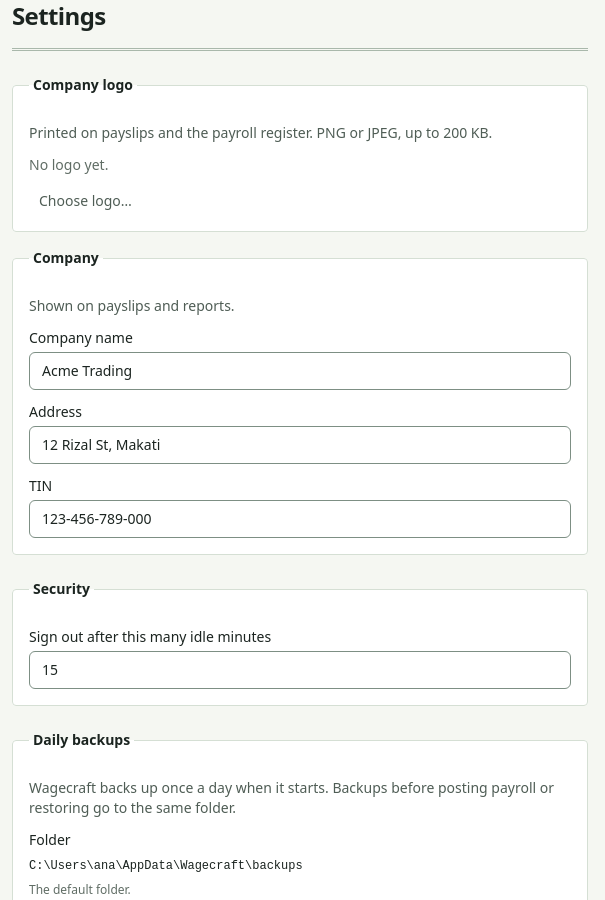
SettingsPage › saves the form and says so
Expected: the field labelled "Company name" holds "Acme Trading", [29,352,571,390]
Step 1. Replace the text in the number field labelled "Sign out after this many idle minutes" with "30" → (300, 670), box [29,651,571,689]
(page scrolled)
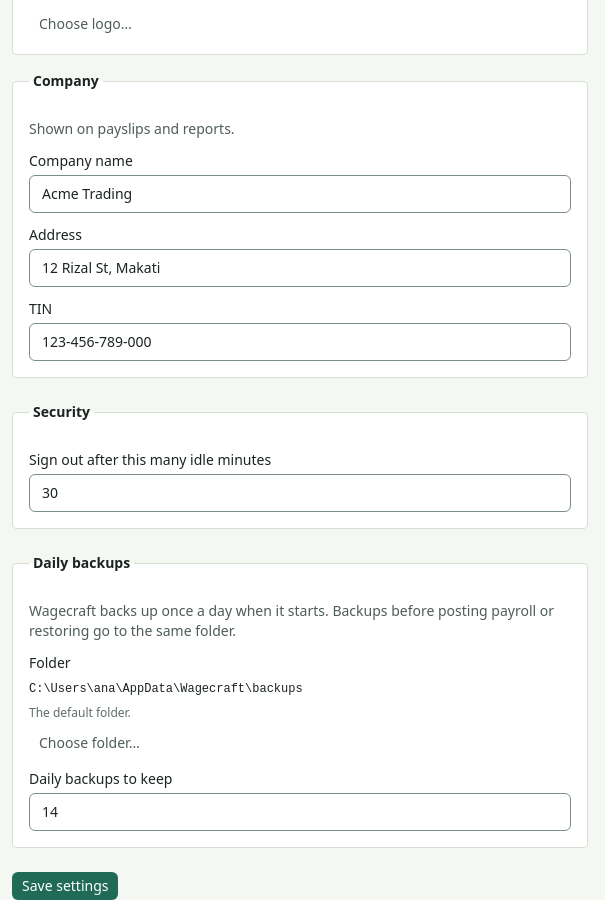
Step 2. Click the button "Save settings" → (65, 886), box [12,872,118,899]
(page scrolled)
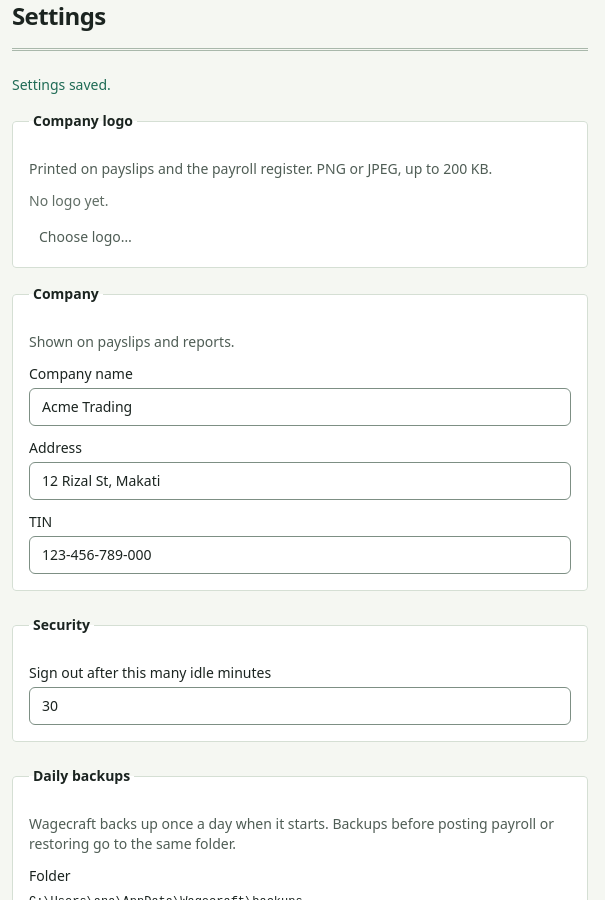
Now the message shows "Settings saved", box [12,75,111,94]
